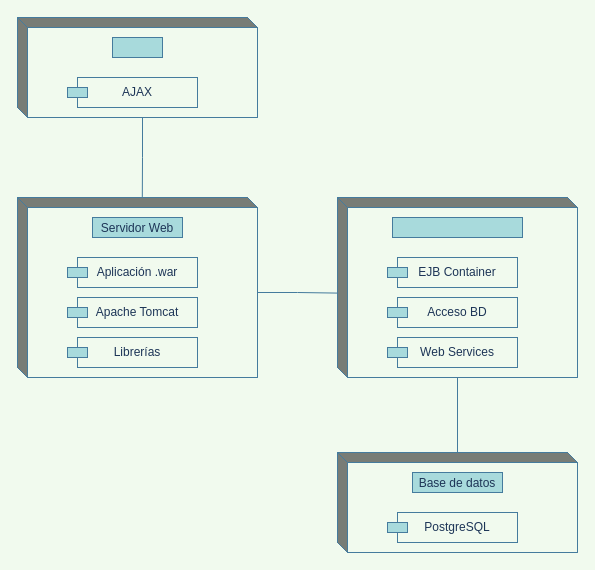
The diagram is 595 pixels wide and 570 high, and some of its shapes have lost their labels. The centre of each missing label's shape, as x and y in pixels:
Cliente: (137,47)
Servidor Aplicaciones: (457,227)
